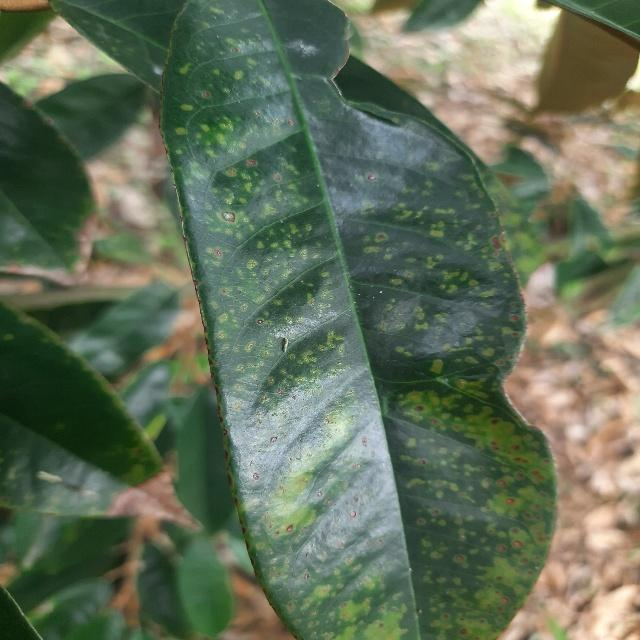Leaf Spot: (145, 0, 570, 640)
